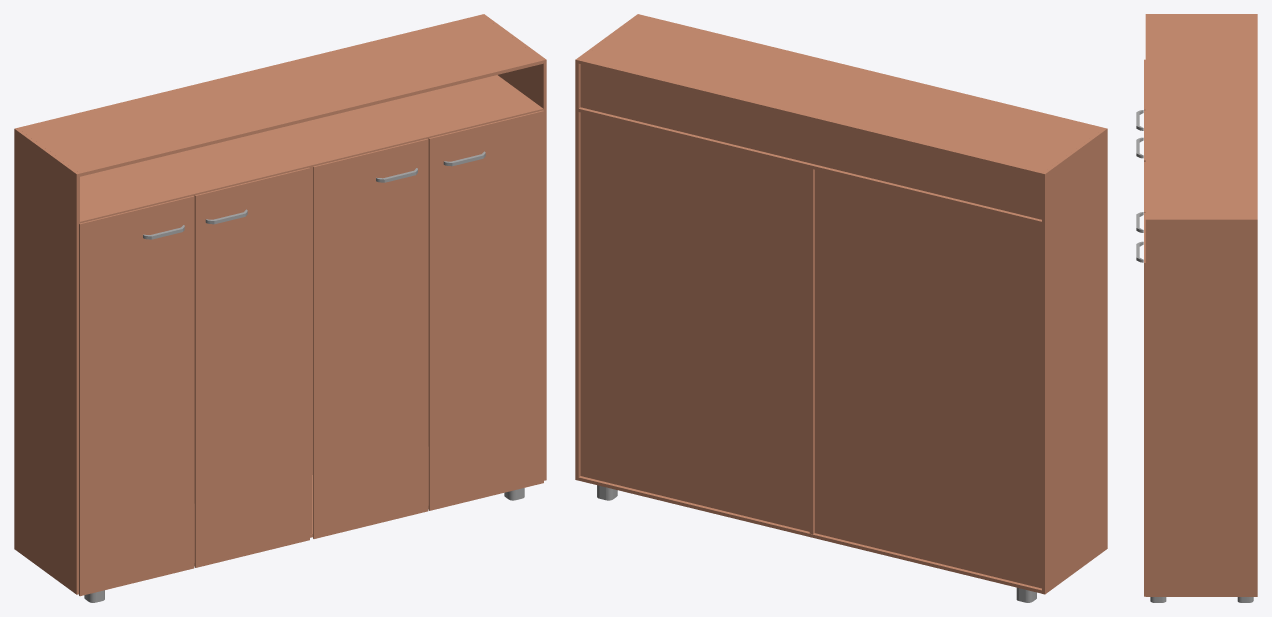
File: MuebleM.fbx
3 views of the same model, side by side, from view 1: azimuth 30°, elevation 25°; view 2: azimuth 150°, elevation 25°; view 3: azimuth 270°, elevation 25° (orthographic). The views are drawn at different scales.
Parts seen in each view (by area): view 1: Cube.009; view 2: Cube.009; view 3: Cube.009.
Part boxes in pixels (x1=…): Cube.009: x1=14, y1=14, x2=546, y2=602; Cube.009: x1=575, y1=14, x2=1107, y2=602; Cube.009: x1=1136, y1=14, x2=1257, y2=602.
Bounding box in the file's own units: 152 × 135 × 37.86.
